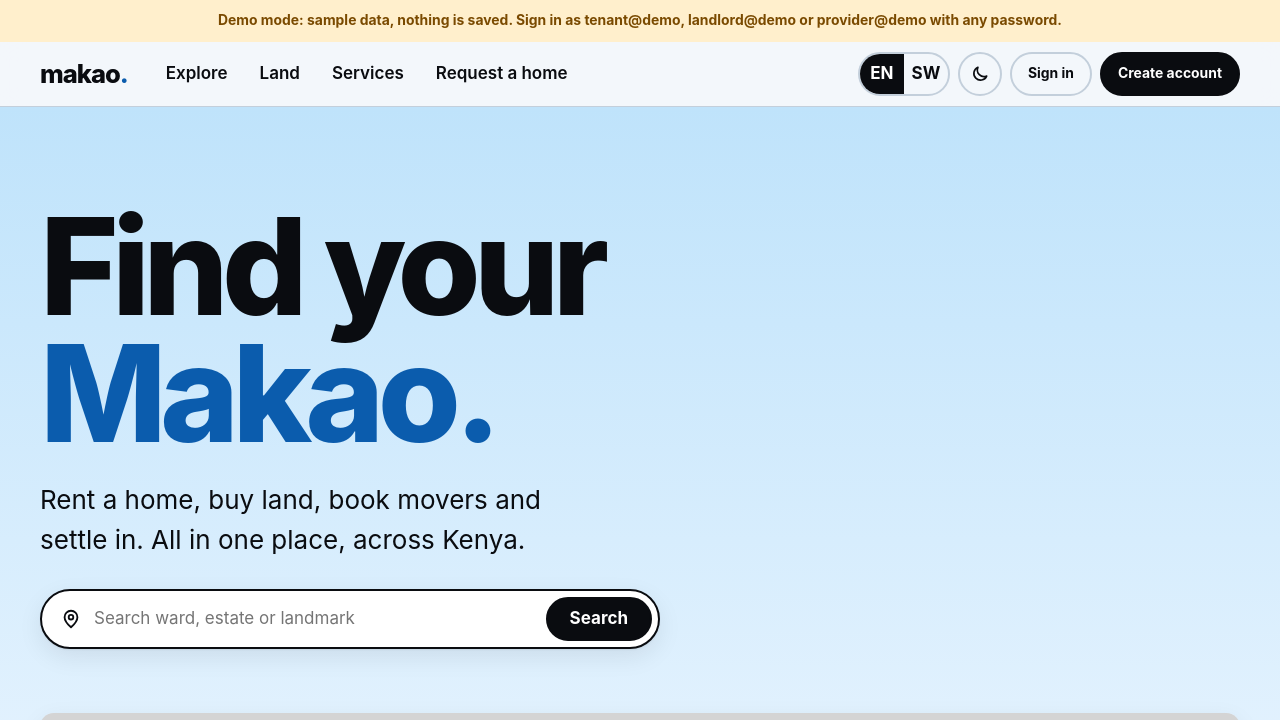
it: language and theme › switches to Kiswahili and updates the page language
The image size is (1280, 720).
Click the button "SW" at (926, 74), box [904, 54, 948, 94]
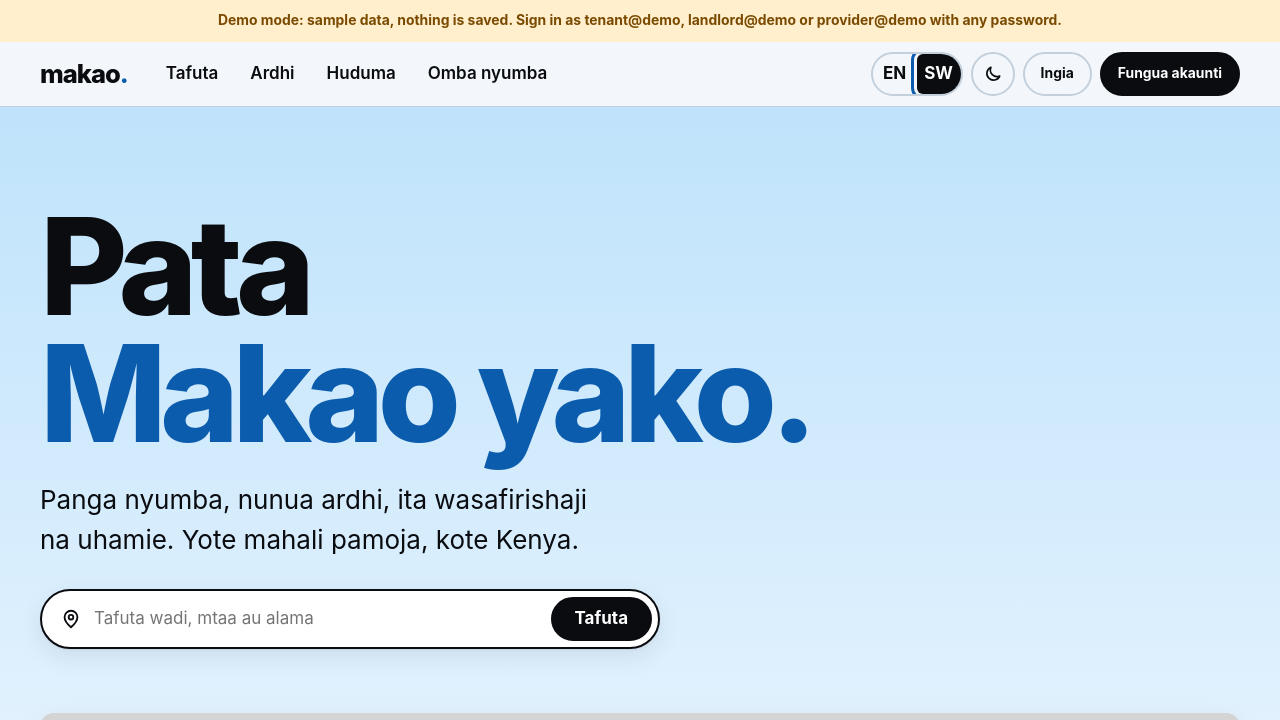
Now the button "SW" is pressed, box [917, 54, 961, 94]
